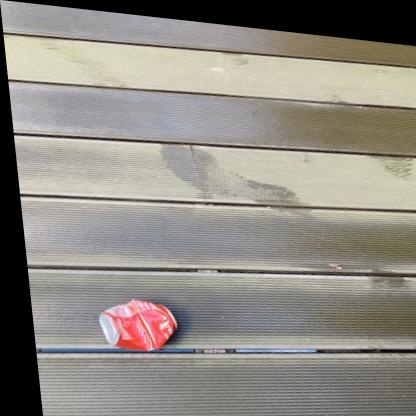trash: (99, 299, 176, 350)
